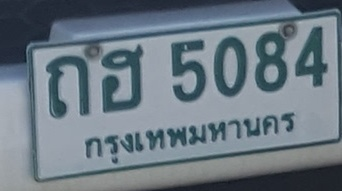txt17: (44, 53, 92, 120)
txt39: (99, 43, 145, 115)
